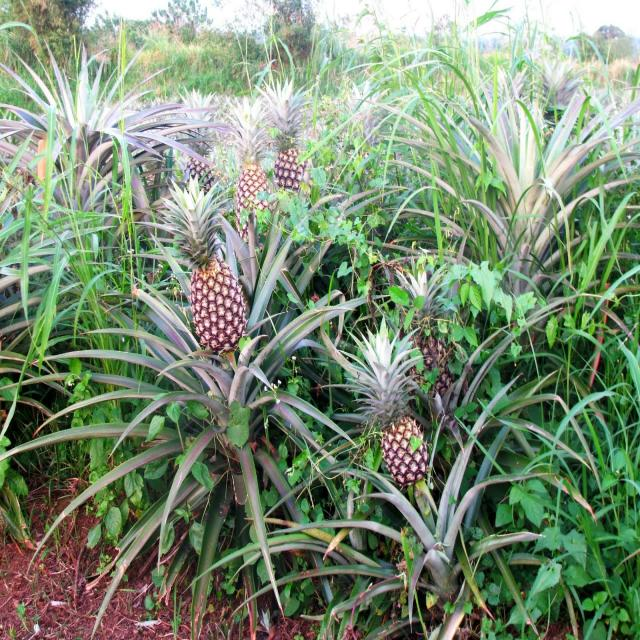pineapple: (177, 222, 246, 354), (372, 376, 433, 490), (234, 146, 273, 229), (274, 139, 306, 195)
